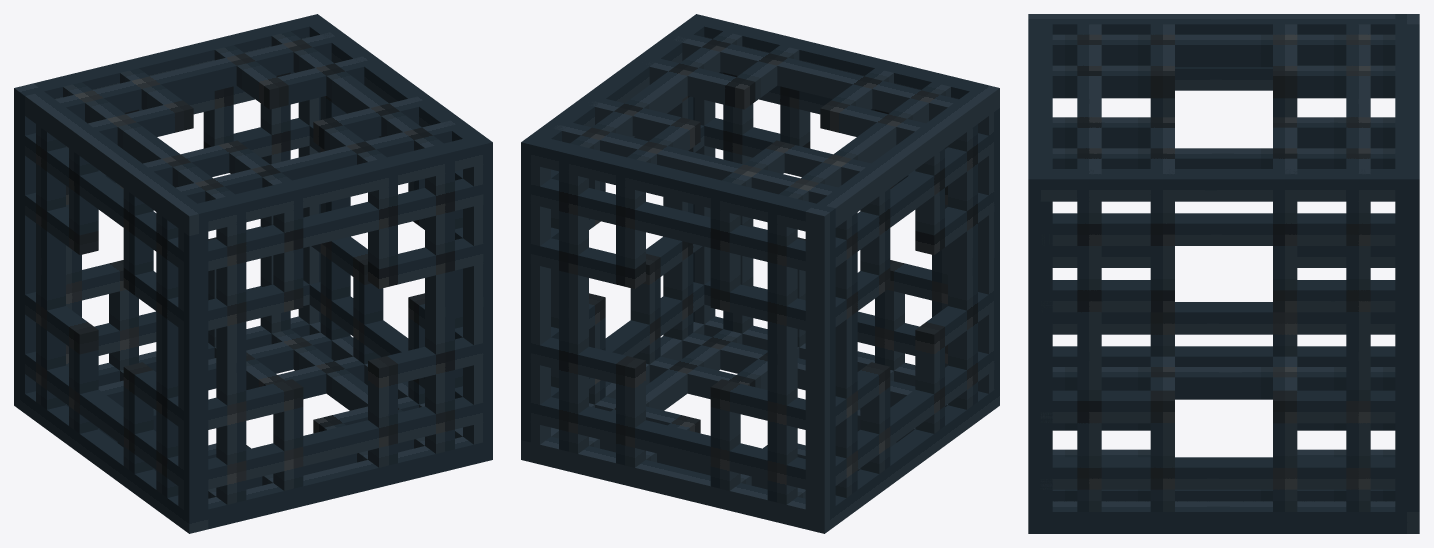
File: block_mob_spawner_cage_2.gltf
3 renders of one model, left to right at view 1: azimuth 30°, elevation 25°; view 2: azimuth 150°, elevation 25°; view 3: azimuth 270°, elevation 25°, orthographic. The views are drawn at different scales.
Visible parts, largest first — view 1: Box7 (×4), Box3 (×6), Box15 (×6), Box8 (×5), Box16 (×4), Box6 (×5), Box2 (×2), Box12 (×5), Box4 (×5), Box11 (×5), Box9 (×5), Box14 (×4) (+4 smaller); view 2: Box15 (×6), Box3 (×6), Box7 (×4), Box6 (×5), Box8 (×5), Box2 (×2), Box16 (×4), Box1 (×2), Box12 (×5), Box11 (×4), Box4 (×5), Box9 (×5) (+4 smaller); view 3: Box16 (×3), Box8 (×3), Box3 (×3), Box7 (×4), Box15 (×3), Box6 (×3), Box4 (×4), Box11 (×4), Box9 (×4), Box2, Box14 (×3), Box10 (×4) (+4 smaller).
Part boxes in pixels (x1,y1,x2,y2): Box7 (×4): (33,14,492,529); Box3 (×6): (25,30,492,493); Box15 (×6): (156,31,462,497); Box8 (×5): (36,82,350,504); Box16 (×4): (178,97,492,513); Box6 (×5): (25,72,492,489); Box2 (×2): (14,83,208,393); Box12 (×5): (123,94,492,433); Box4 (×5): (25,100,370,429); Box11 (×5): (123,45,424,473); Box9 (×5): (69,68,383,490); Box14 (×4): (134,54,492,433); Box15 (×6): (559,31,977,453); Box3 (×6): (521,119,999,489); Box7 (×4): (521,14,980,386); Box6 (×5): (523,30,999,407); Box8 (×5): (551,82,950,504); Box2 (×2): (805,83,999,513); Box16 (×4): (521,97,999,444); Box1 (×2): (521,386,999,533); Box12 (×5): (521,54,999,399); Box11 (×4): (616,117,944,467); Box4 (×5): (551,140,947,429); Box9 (×5): (589,148,904,490); Box16 (×3): (1028,201,1419,533); Box8 (×3): (1052,34,1395,511); Box3 (×3): (1028,24,1395,489); Box7 (×4): (1028,24,1419,533); Box15 (×3): (1052,148,1395,511); Box6 (×3): (1028,24,1395,245); Box4 (×4): (1273,24,1395,423); Box11 (×4): (1150,117,1395,511); Box9 (×4): (1273,65,1395,511); Box2: (1028,14,1395,34); Box14 (×3): (1028,127,1297,423); Box10 (×4): (1052,65,1297,430).
Bounding box in the file's own units: 1 × 1 × 1.
Materials: 1 (1 with a texture image).
